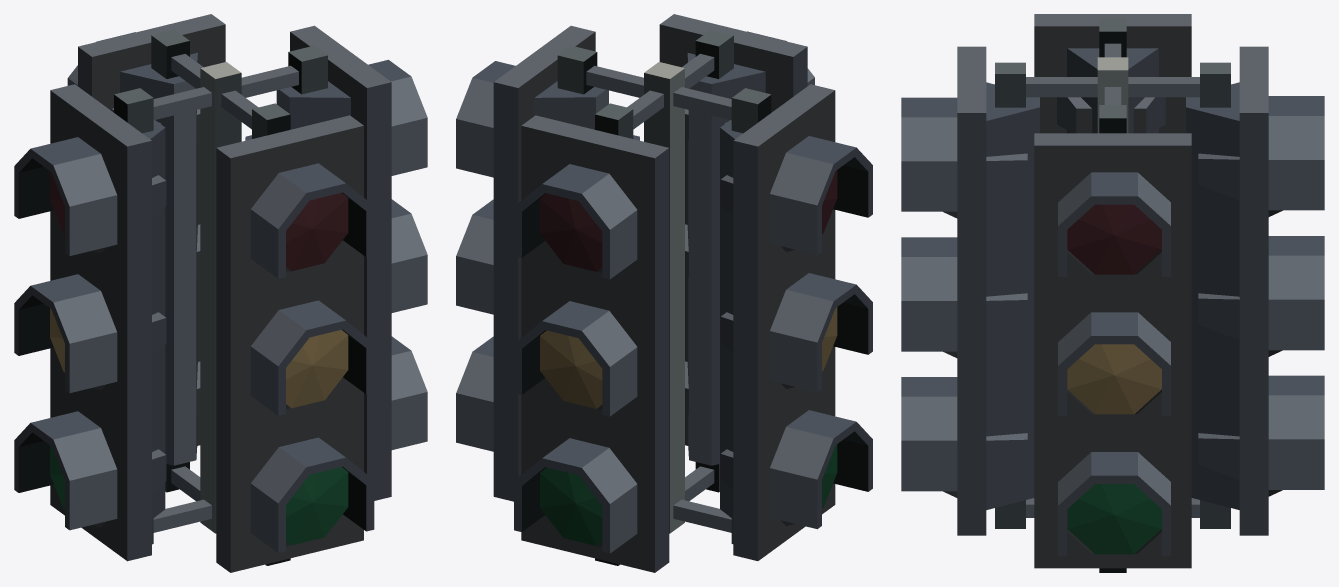
The model's file is TB_CITY_Prop_TrafficLight_4_Black.FBX.
3 renders of one model, left to right at view 1: azimuth 30°, elevation 25°; view 2: azimuth 150°, elevation 25°; view 3: azimuth 270°, elevation 25°, orthographic.
Parts seen in each view (by area): view 1: TB_CITY_Prop_TrafficLight_4_Black; view 2: TB_CITY_Prop_TrafficLight_4_Black; view 3: TB_CITY_Prop_TrafficLight_4_Black.
Boxes of the visible parts, x1,y1,x2,y2 form: TB_CITY_Prop_TrafficLight_4_Black: (14,14,427,572); TB_CITY_Prop_TrafficLight_4_Black: (456,14,872,572); TB_CITY_Prop_TrafficLight_4_Black: (901,14,1324,572).
Size of the model in its own units: 2.76 by 3.33 by 2.76.
